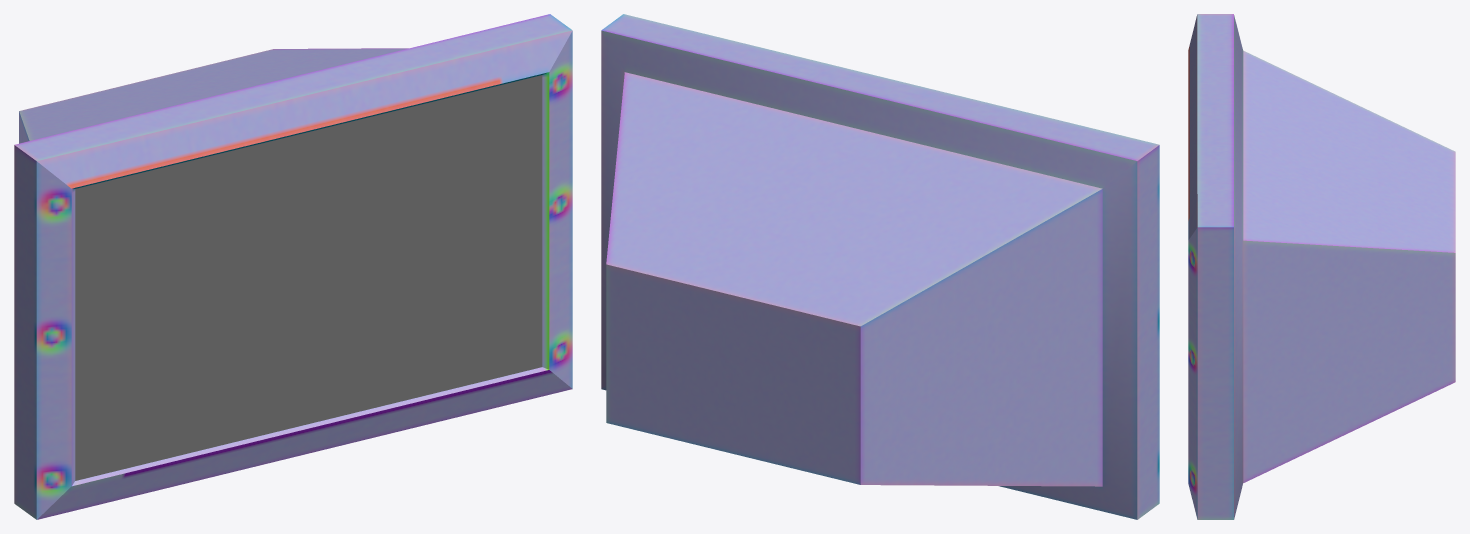
The model's file is LitLampA2.fbx.
3 renders of one model, left to right at view 1: azimuth 30°, elevation 25°; view 2: azimuth 150°, elevation 25°; view 3: azimuth 270°, elevation 25°, orthographic. The views are drawn at different scales.
Parts seen in each view (by area): view 1: LitLampA2; view 2: LitLampA2; view 3: LitLampA2.
Part boxes in pixels (box(x1,y1,x2,y2)): LitLampA2: box(14, 14, 572, 519); LitLampA2: box(601, 14, 1159, 519); LitLampA2: box(1188, 14, 1455, 519).
Bounding box in the file's own units: 27.61 × 17.65 × 14.62.
Materials: 2 (1 with a texture image).
